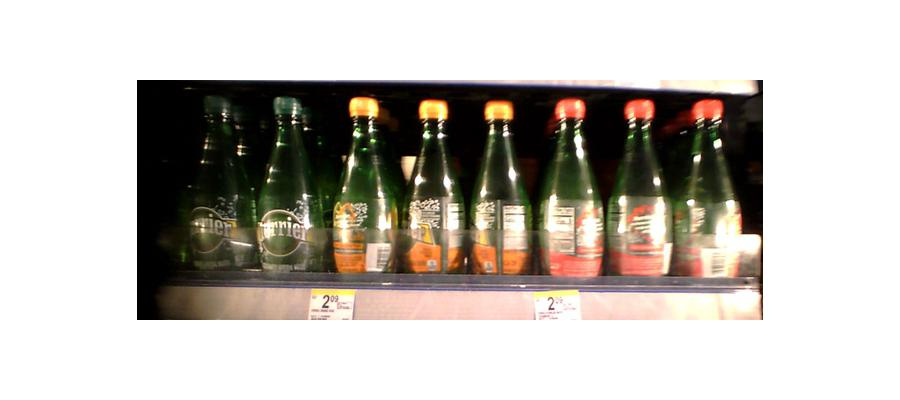bottle: (329, 94, 398, 287), (256, 93, 325, 283), (675, 94, 741, 282), (539, 95, 603, 286), (186, 90, 252, 273), (609, 94, 672, 281), (473, 96, 535, 283), (402, 97, 464, 281)
